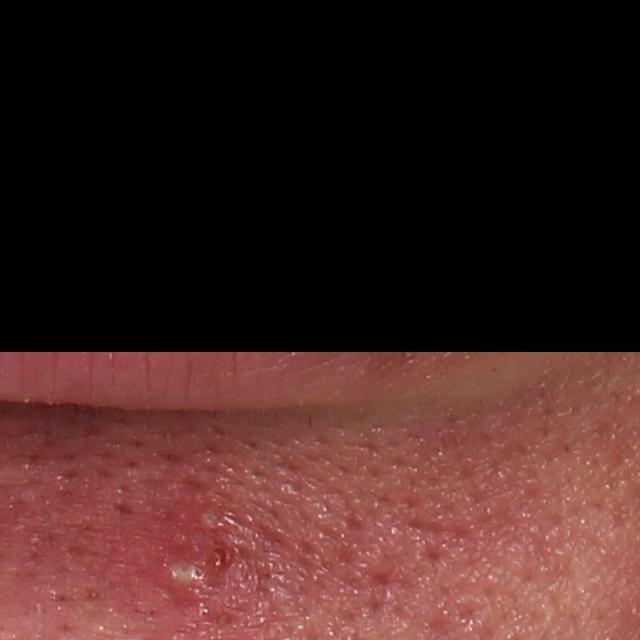pustule: (156, 547, 219, 608), (197, 502, 225, 534)
